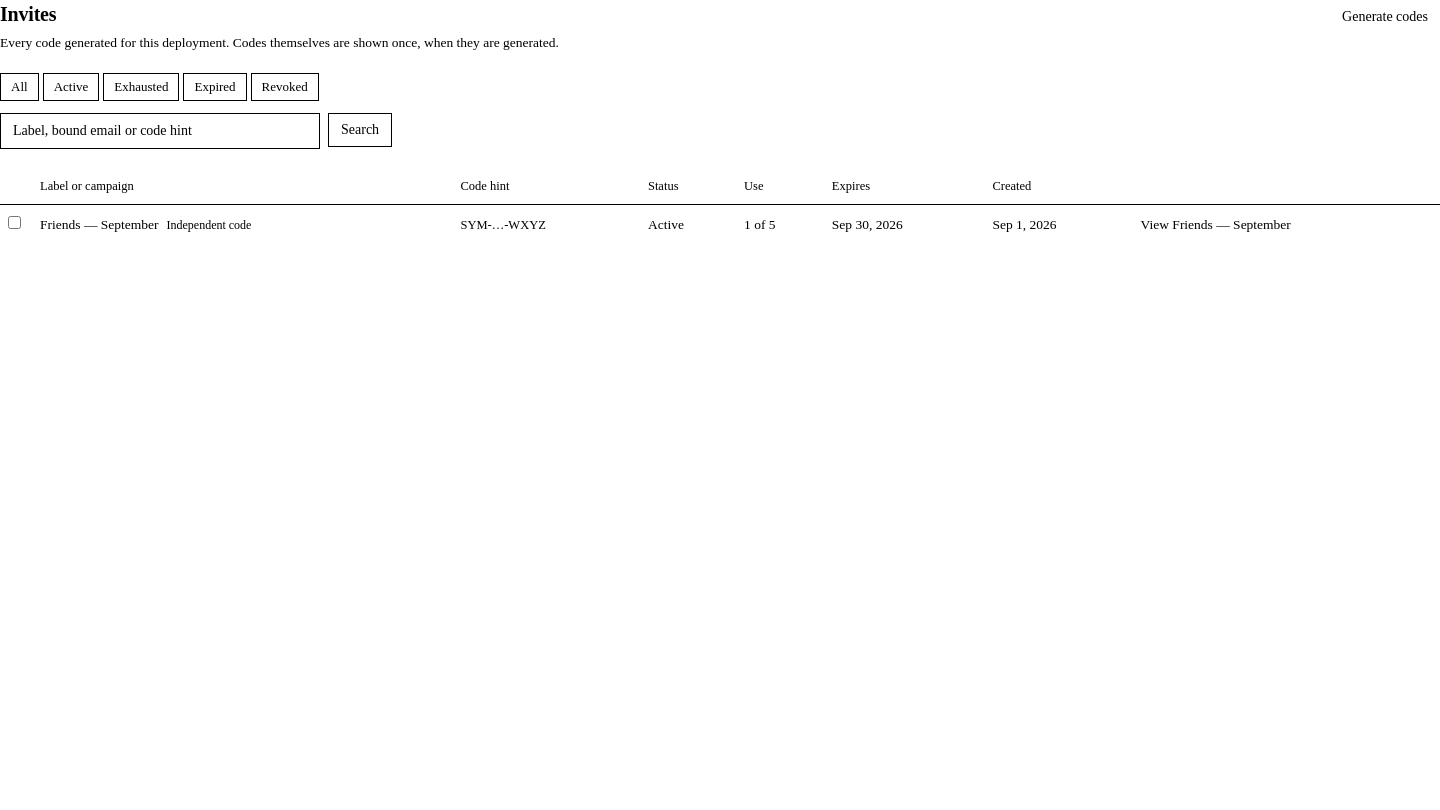
the invite inventory (admin_invites.md) › counts an invite that changed since it was listed as unchanged
Click the checkbox named "Select invite". click: (14, 222)
box: [8,216,21,228]
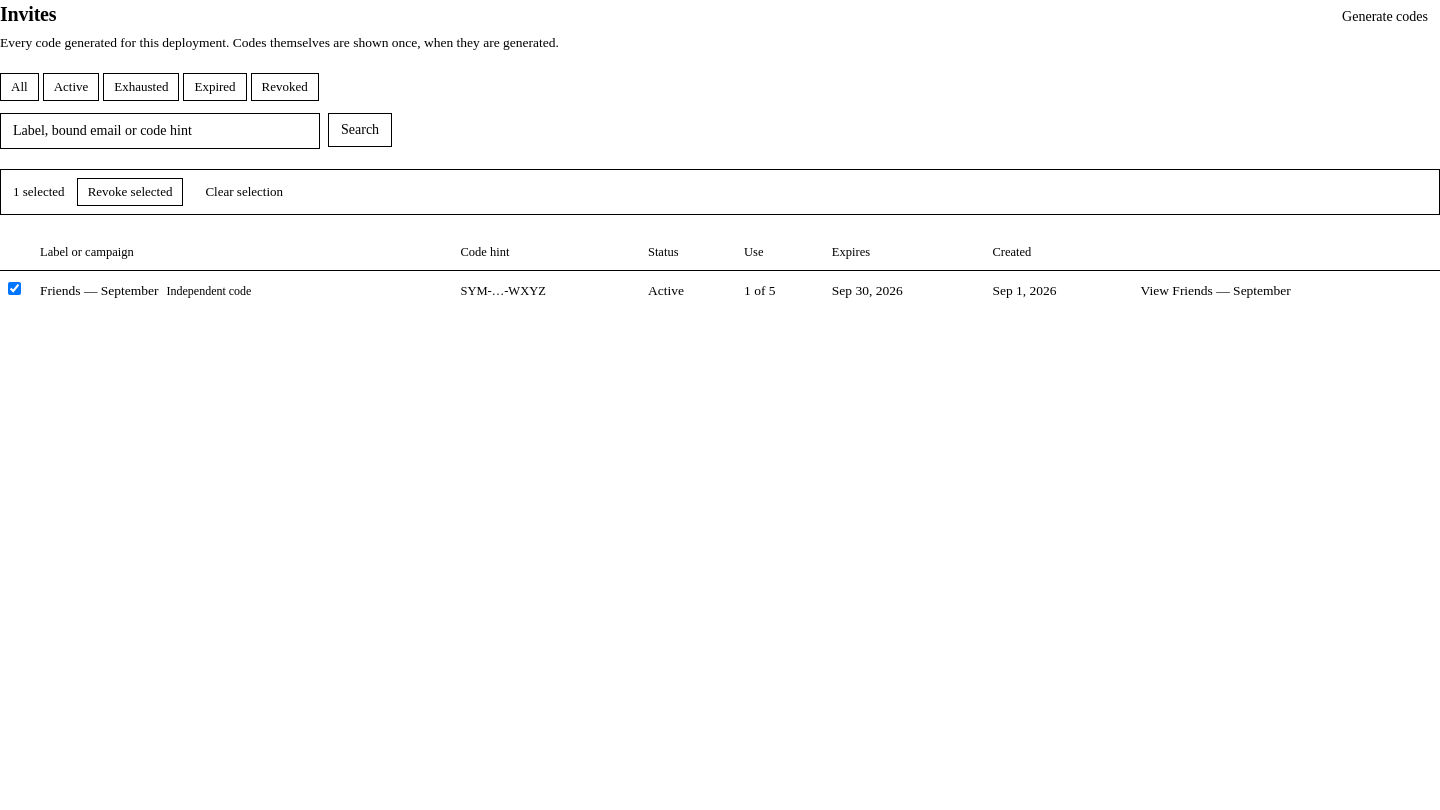
Click the button "Revoke selected". click: (130, 192)
box: [77,178,183,206]
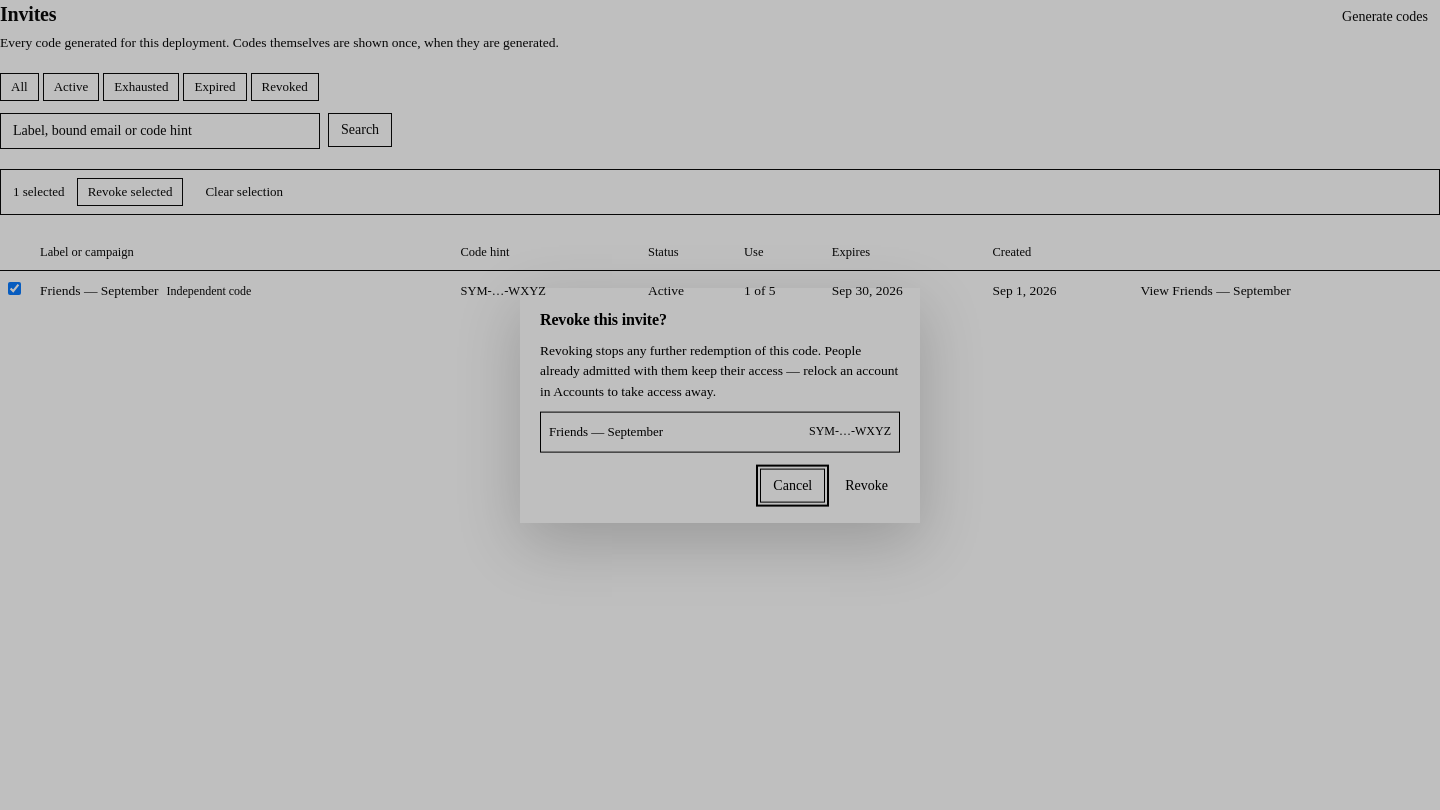
Click the button "Revoke". click: (867, 485)
box: [833,468,900,502]
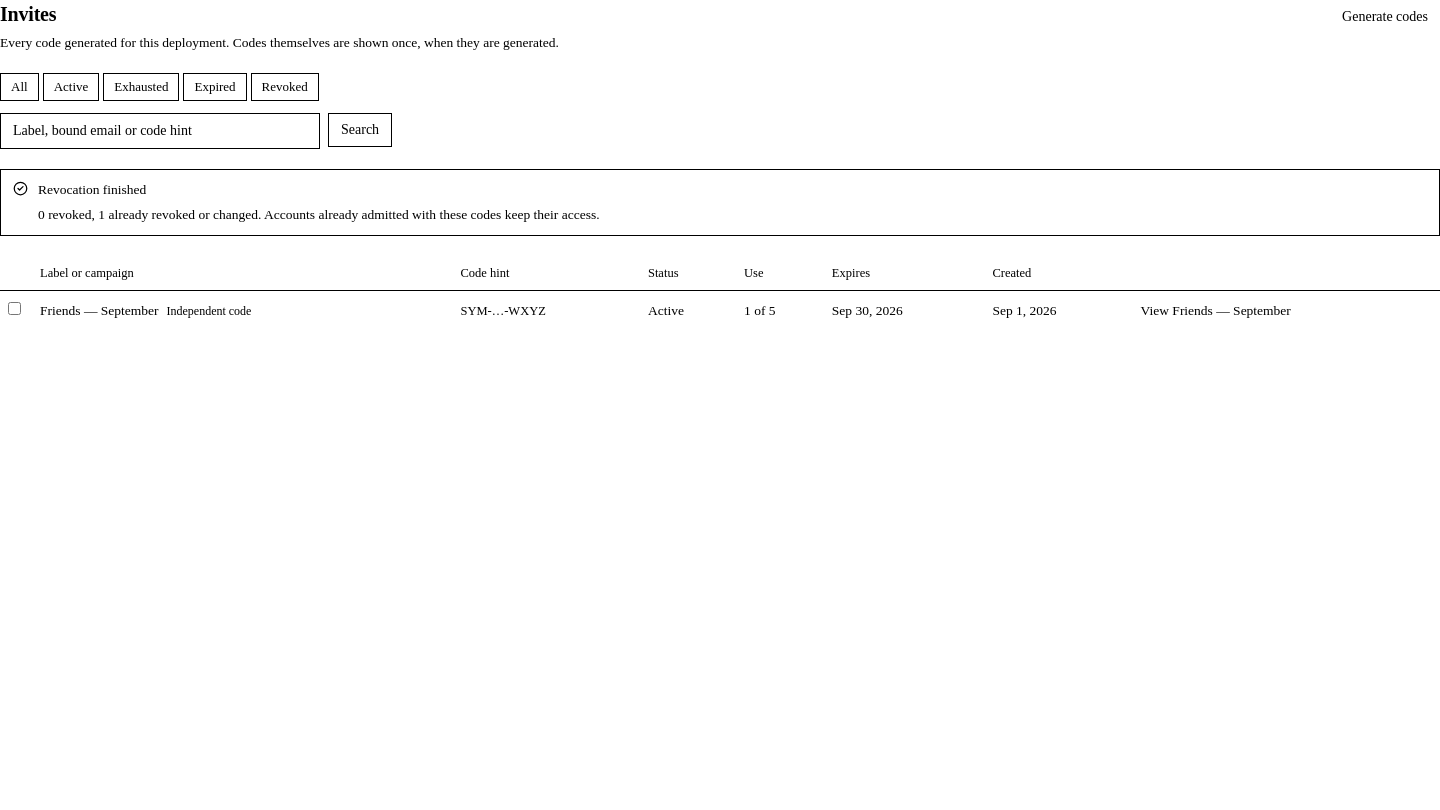
expect the text "already revoked or changed" is shown: met, box [92,207,258,222]
